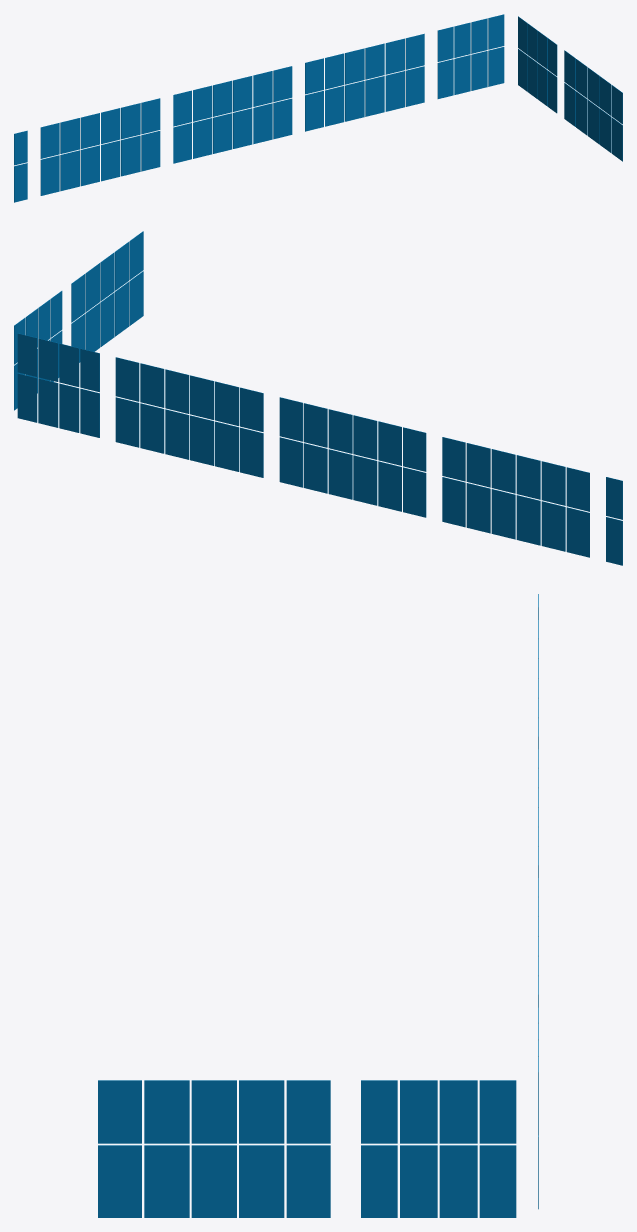
The model's file is Hackathon Site_IfcPlate.dae.
3 views of the same model, one above another, from view 1: azimuth 30°, elevation 25°; view 2: azimuth 150°, elevation 25°; view 3: azimuth 270°, elevation 25° (orthographic). The views are drawn at different scales.
Visible parts, largest first — view 1: 3DTyfZBMjELed2J$rO1tvo, 3DTyfZBMjELed2J$rO1tvs, 1WlXMZY4P8ZgBuWCBrVoYD, 1WlXMZY4P8ZgBuWCBrVoia, 1WlXMZY4P8ZgBuWCBrVoY9, 3DTyfZBMjELed2J$rO1t_E, 3DTyfZBMjELed2J$rO1t_C, 1WlXMZY4P8ZgBuWCBrVoiY, 1WlXMZY4P8ZgBuWCBrVoYB, 1WlXMZY4P8ZgBuWCBrVoYn, 3DTyfZBMjELed2J$rO1tvm, 3DTyfZBMjELed2J$rO1tvu (+52 smaller); view 2: 3DTyfZBMjELed2J$rO1tvo, 1WlXMZY4P8ZgBuWCBrVoYD, 3DTyfZBMjELed2J$rO1tvs, 1WlXMZY4P8ZgBuWCBrVoi_, 1WlXMZY4P8ZgBuWCBrVoiY, 1WlXMZY4P8ZgBuWCBrVoia, 3DTyfZBMjELed2J$rO1t_C, 3DTyfZBMjELed2J$rO1tvm, 1WlXMZY4P8ZgBuWCBrVoic, 1WlXMZY4P8ZgBuWCBrVoYF, 1WlXMZY4P8ZgBuWCBrVoiW, 1WlXMZY4P8ZgBuWCBrVoYB (+46 smaller); view 3: 1WlXMZY4P8ZgBuWCBrVzpM, 1WlXMZY4P8ZgBuWCBrVzpO, 1WlXMZY4P8ZgBuWCBrVzpQ, 1WlXMZY4P8ZgBuWCBrVzp0, 1WlXMZY4P8ZgBuWCBrVzpK, 1WlXMZY4P8ZgBuWCBrVzol, 1WlXMZY4P8ZgBuWCBrVzpG, 1WlXMZY4P8ZgBuWCBrVzpH, 1WlXMZY4P8ZgBuWCBrVzpI, 1WlXMZY4P8ZgBuWCBrVoBR, 1WlXMZY4P8ZgBuWCBrVzok, 1WlXMZY4P8ZgBuWCBrVoBP (+6 smaller).
Part boxes in pixels (x1,y1,x2,y2): 3DTyfZBMjELed2J$rO1tvo: [101, 140, 120, 181]; 3DTyfZBMjELed2J$rO1tvs: [60, 150, 79, 191]; 1WlXMZY4P8ZgBuWCBrVoYD: [233, 108, 252, 148]; 1WlXMZY4P8ZgBuWCBrVoia: [345, 81, 364, 121]; 1WlXMZY4P8ZgBuWCBrVoY9: [273, 98, 292, 139]; 3DTyfZBMjELed2J$rO1t_E: [141, 131, 160, 171]; 3DTyfZBMjELed2J$rO1t_C: [121, 135, 140, 176]; 1WlXMZY4P8ZgBuWCBrVoiY: [365, 76, 384, 116]; 1WlXMZY4P8ZgBuWCBrVoYB: [253, 103, 272, 144]; 1WlXMZY4P8ZgBuWCBrVoYn: [193, 118, 212, 158]; 3DTyfZBMjELed2J$rO1tvm: [80, 145, 99, 186]; 3DTyfZBMjELed2J$rO1tvu: [40, 155, 59, 195]; 3DTyfZBMjELed2J$rO1tvo: [491, 489, 515, 539]; 1WlXMZY4P8ZgBuWCBrVoYD: [328, 449, 352, 499]; 3DTyfZBMjELed2J$rO1tvs: [541, 501, 565, 551]; 1WlXMZY4P8ZgBuWCBrVoi_: [115, 397, 139, 447]; 1WlXMZY4P8ZgBuWCBrVoiY: [165, 409, 189, 459]; 1WlXMZY4P8ZgBuWCBrVoia: [190, 415, 214, 465]; 3DTyfZBMjELed2J$rO1t_C: [466, 483, 490, 533]; 3DTyfZBMjELed2J$rO1tvm: [516, 495, 540, 545]; 1WlXMZY4P8ZgBuWCBrVoic: [215, 421, 239, 471]; 1WlXMZY4P8ZgBuWCBrVoYF: [353, 455, 377, 505]; 1WlXMZY4P8ZgBuWCBrVoiW: [140, 403, 164, 453]; 1WlXMZY4P8ZgBuWCBrVoYB: [303, 443, 327, 493]; 1WlXMZY4P8ZgBuWCBrVzpM: [144, 1145, 189, 1217]; 1WlXMZY4P8ZgBuWCBrVzpO: [191, 1145, 236, 1217]; 1WlXMZY4P8ZgBuWCBrVzpQ: [239, 1145, 284, 1217]; 1WlXMZY4P8ZgBuWCBrVzp0: [286, 1145, 330, 1217]; 1WlXMZY4P8ZgBuWCBrVzpK: [98, 1145, 141, 1217]; 1WlXMZY4P8ZgBuWCBrVzol: [144, 1080, 189, 1143]; 1WlXMZY4P8ZgBuWCBrVzpG: [191, 1080, 236, 1143]; 1WlXMZY4P8ZgBuWCBrVzpH: [239, 1080, 284, 1143]; 1WlXMZY4P8ZgBuWCBrVzpI: [286, 1080, 330, 1143]; 1WlXMZY4P8ZgBuWCBrVoBR: [439, 1145, 477, 1217]; 1WlXMZY4P8ZgBuWCBrVzok: [98, 1080, 141, 1143]; 1WlXMZY4P8ZgBuWCBrVoBP: [400, 1145, 437, 1217].
Size of the model in its own units: 33.82 by 12.95 by 4.45.
